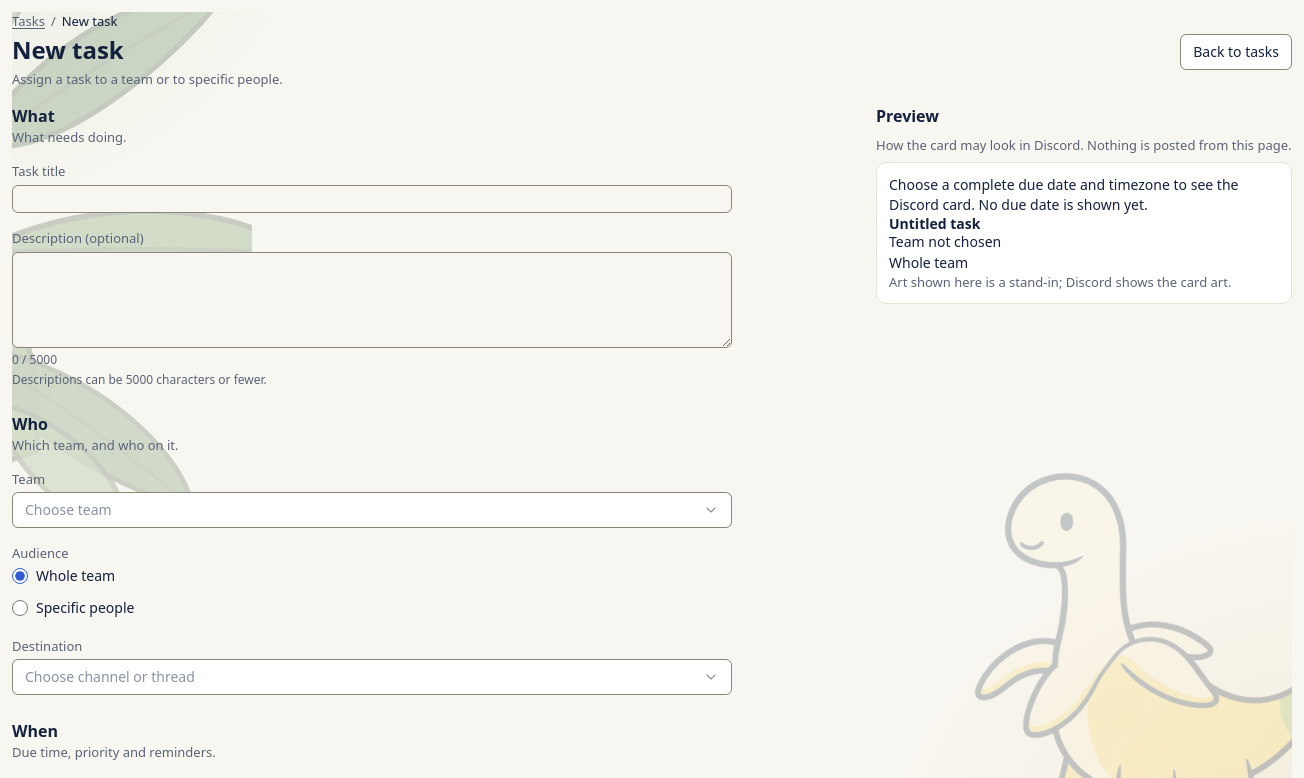
task creation › offers an individual assignment from verified team members
The image size is (1304, 778).
Step 1. Click the dropdown labelled "Choose team" → (68, 510), box [12,492,732,528]
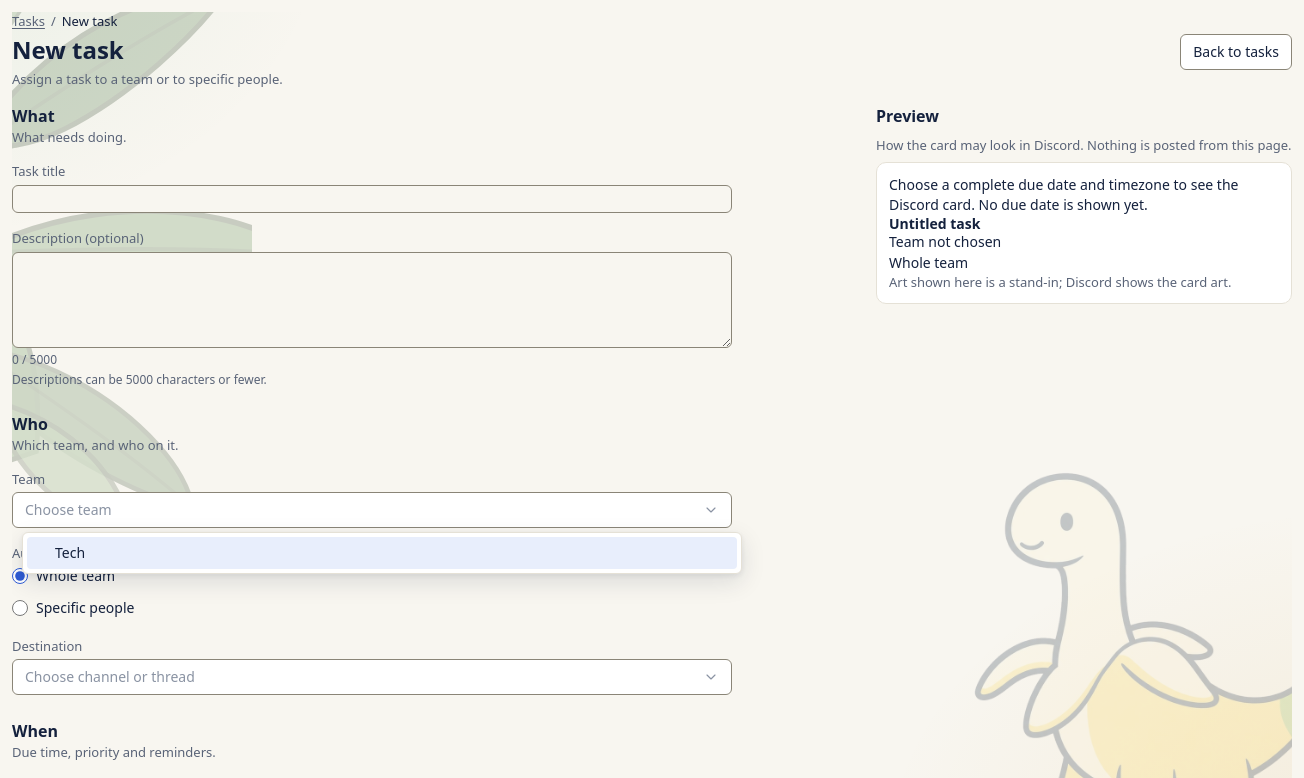
Step 2. Click the option "Tech" → (70, 552), box [27,537,737,569]
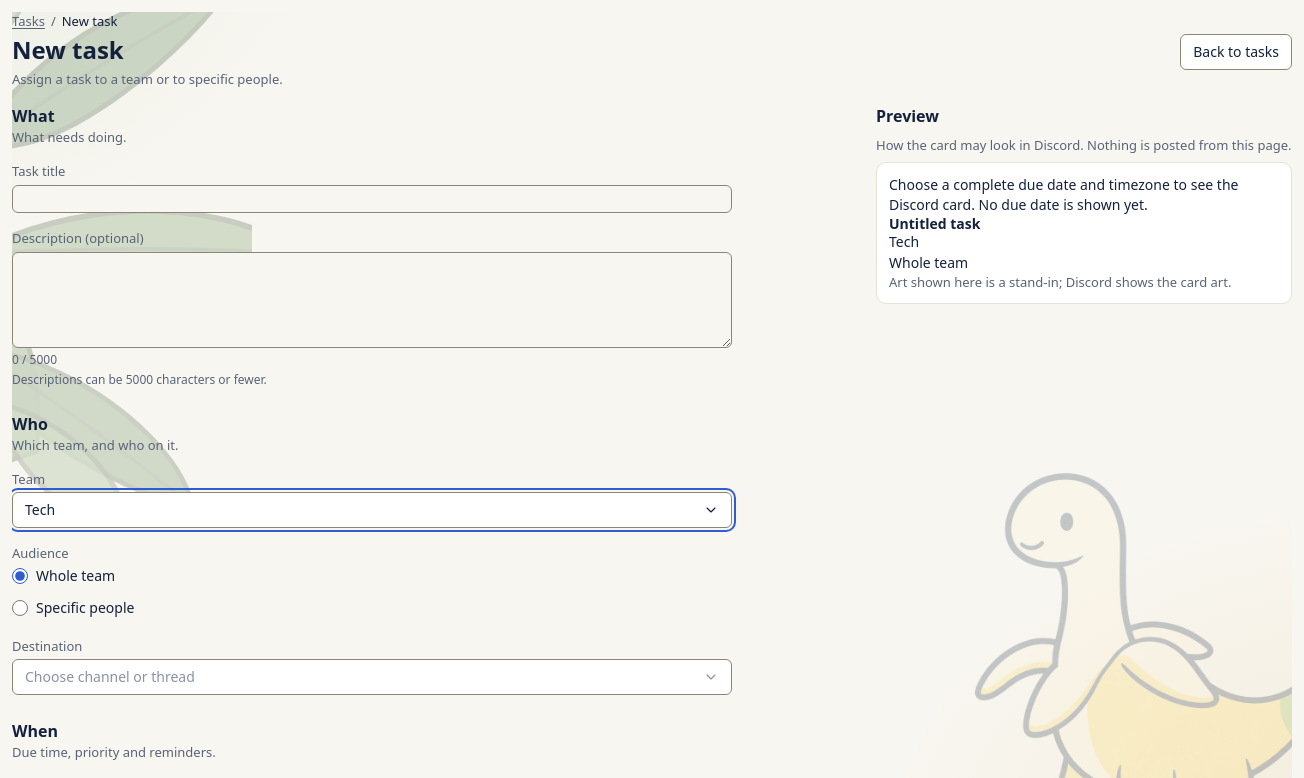
Step 3. Click the radio button labelled "Specific people" → (20, 608), box [12,600,28,616]
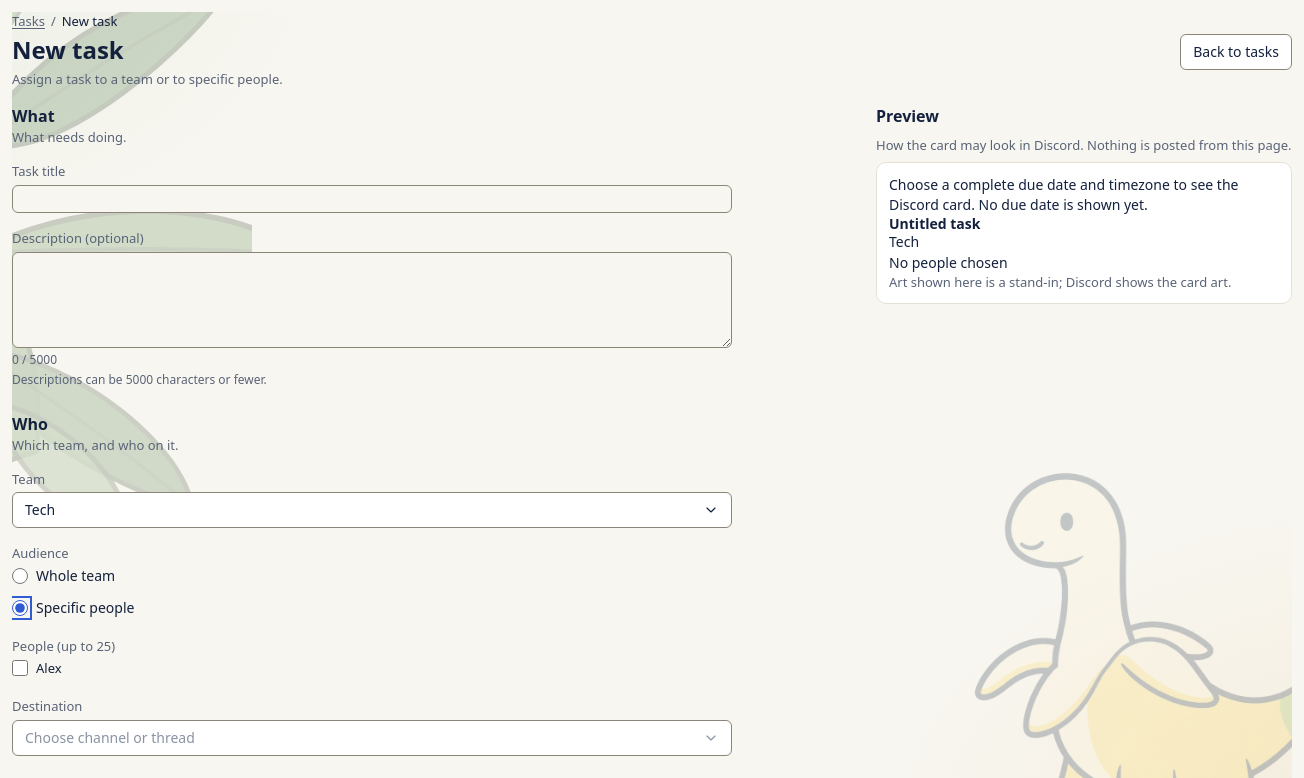
Check: the checkbox labelled "Alex" is shown, box [12,660,28,676]
